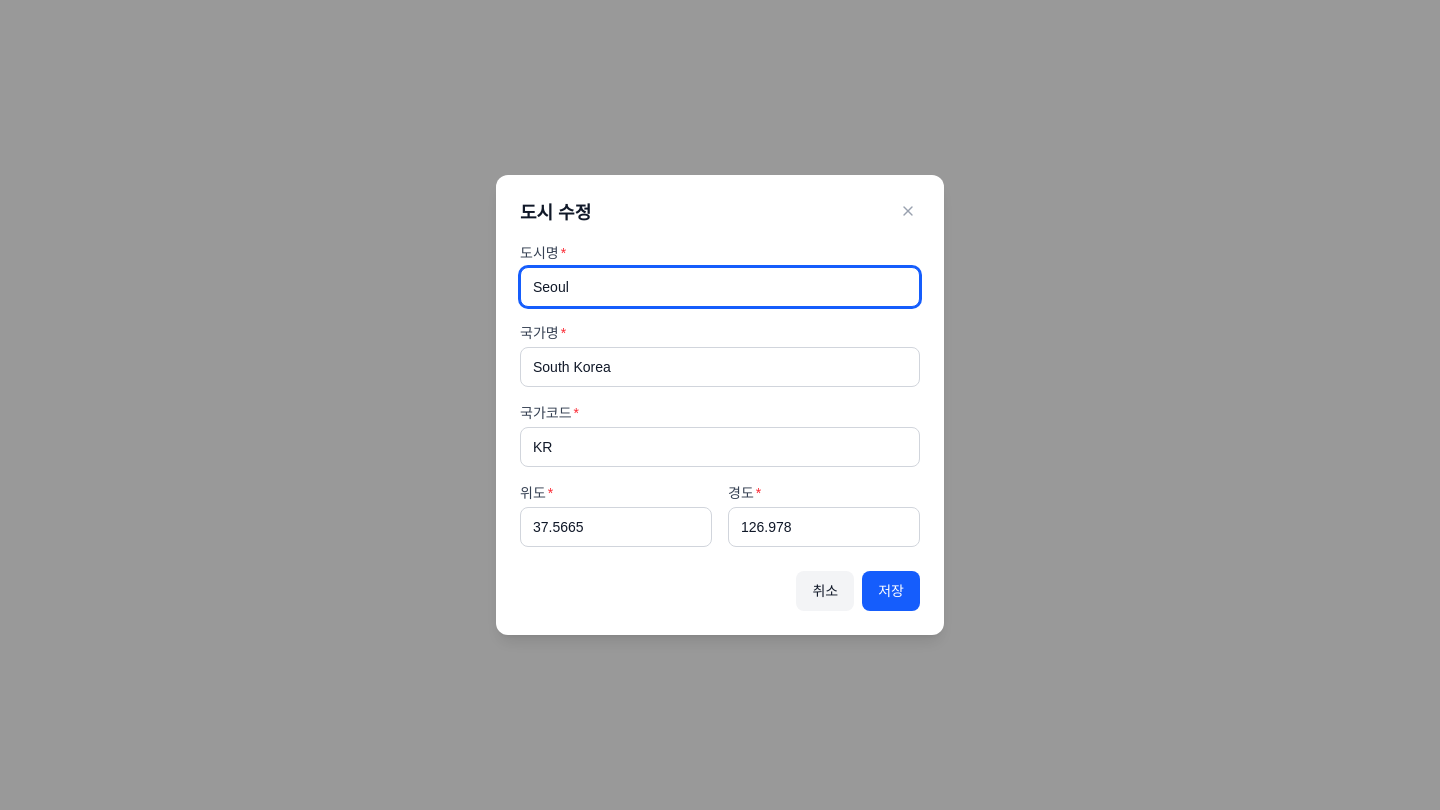
Test case: CityFormModal - edit mode (F4) › 존재하지 않는 대상(id) 수정 시도 시 폼을 닫고 Toast로만 안내한다 (F4 엣지케이스, design-spec.md §3.5)
Step 1. Click the button "저장" → (891,591), box [862,571,920,611]
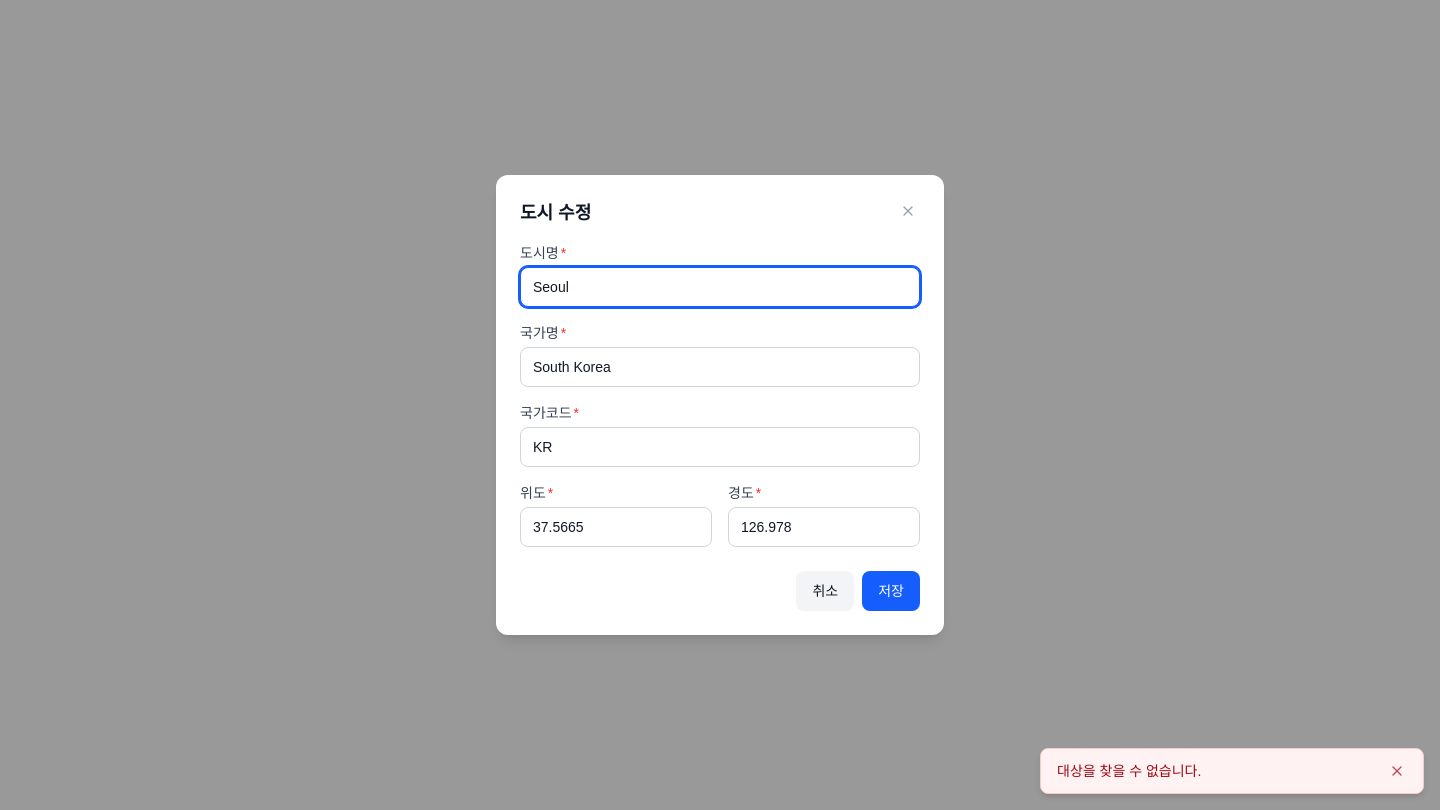
Expected: the text "대상을 찾을 수 없습니다." is shown, [1057,761,1201,781]
